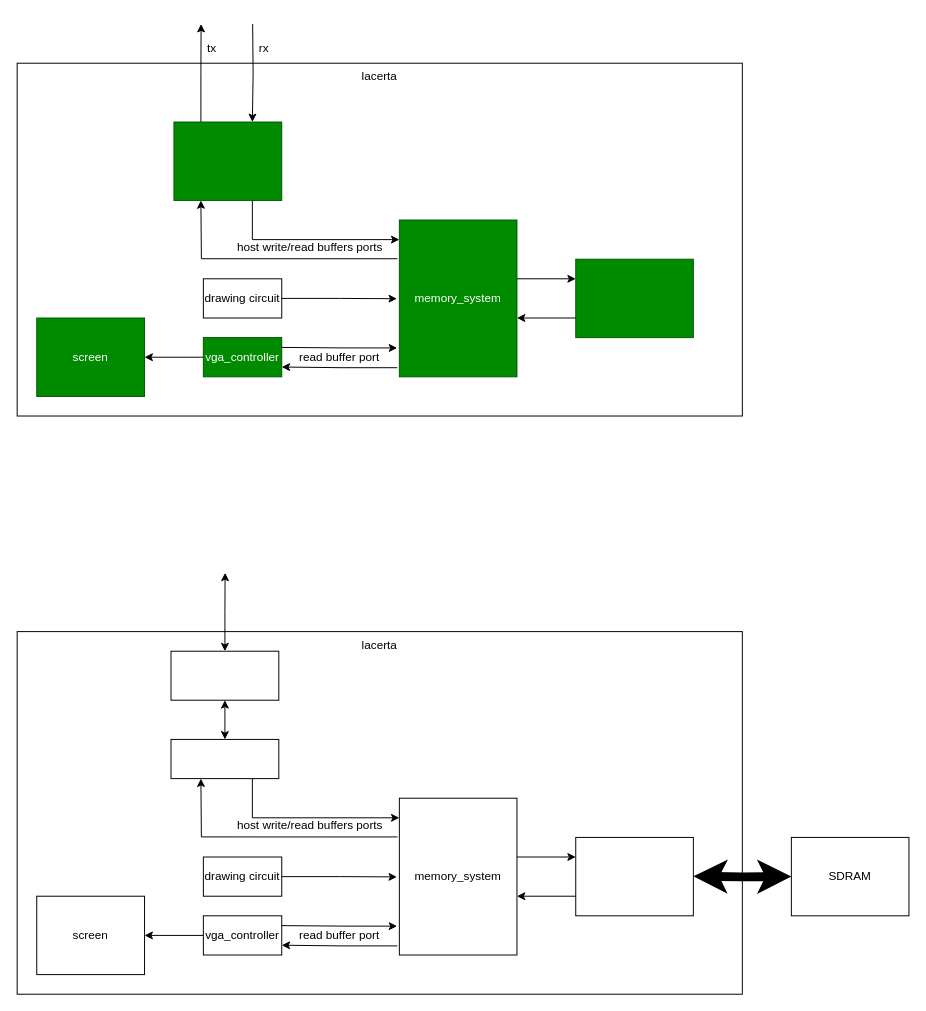
The diagram is 926 pixels wide and 1011 high, and some of its shapes have lost their labels. The shapes that lost their labels are listed below. From the top down, each one's centre as x and y in pixels, then its label:
At [227,160]: "uart to write/read buffer".
At [634,298]: "ram".
At [224,675]: "Caravel RV".
At [224,758]: "WB bridge".
At [634,876]: "sdram_controller".
